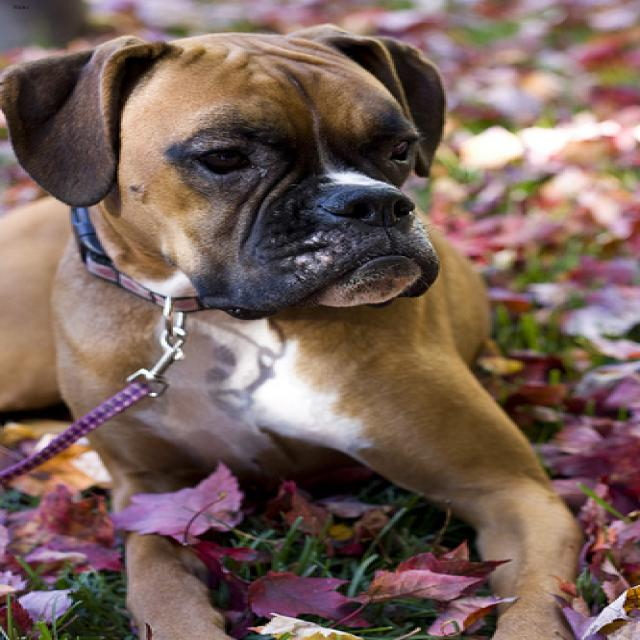dog-boxer: (2, 19, 607, 637)
